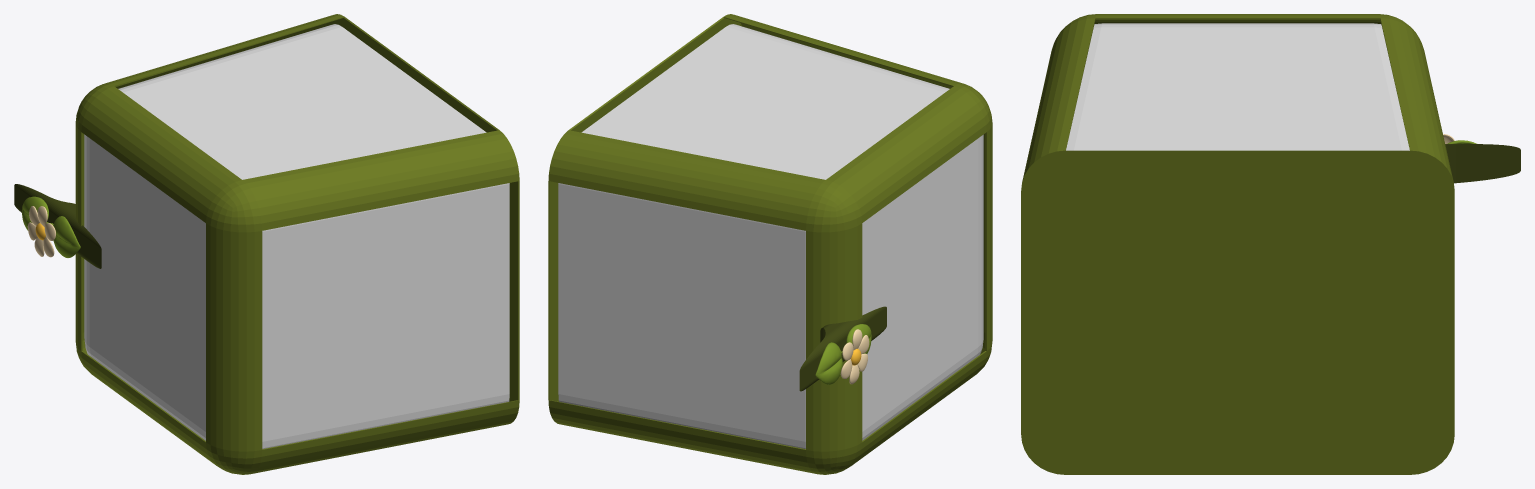
File: CubeTool.fbx
3 renders of one model, left to right at view 1: azimuth 30°, elevation 25°; view 2: azimuth 150°, elevation 25°; view 3: azimuth 270°, elevation 25°, orthographic. The views are drawn at different scales.
Parts seen in each view (by area): view 1: Cube, CubeArmor, LockingDevice, yedekflower.005, Leaf.005; view 2: Cube, CubeArmor, LockingDevice, yedekflower.005, Leaf.006; view 3: CubeArmor, Cube, LockingDevice.
Boxes of the visible parts, box(x1,y1,x2,y2) form: Cube: box(84, 24, 509, 448); CubeArmor: box(75, 14, 519, 474); LockingDevice: box(14, 184, 101, 268); yedekflower.005: box(27, 206, 55, 257); Leaf.005: box(53, 216, 80, 257); Cube: box(558, 24, 983, 448); CubeArmor: box(548, 14, 992, 474); LockingDevice: box(799, 306, 886, 391); yedekflower.005: box(840, 329, 869, 384); Leaf.006: box(815, 342, 842, 384); CubeArmor: box(1021, 14, 1454, 474); Cube: box(1066, 23, 1409, 150); LockingDevice: box(1445, 144, 1520, 183).
Bounding box in the file's own units: 180 × 235 × 168.
